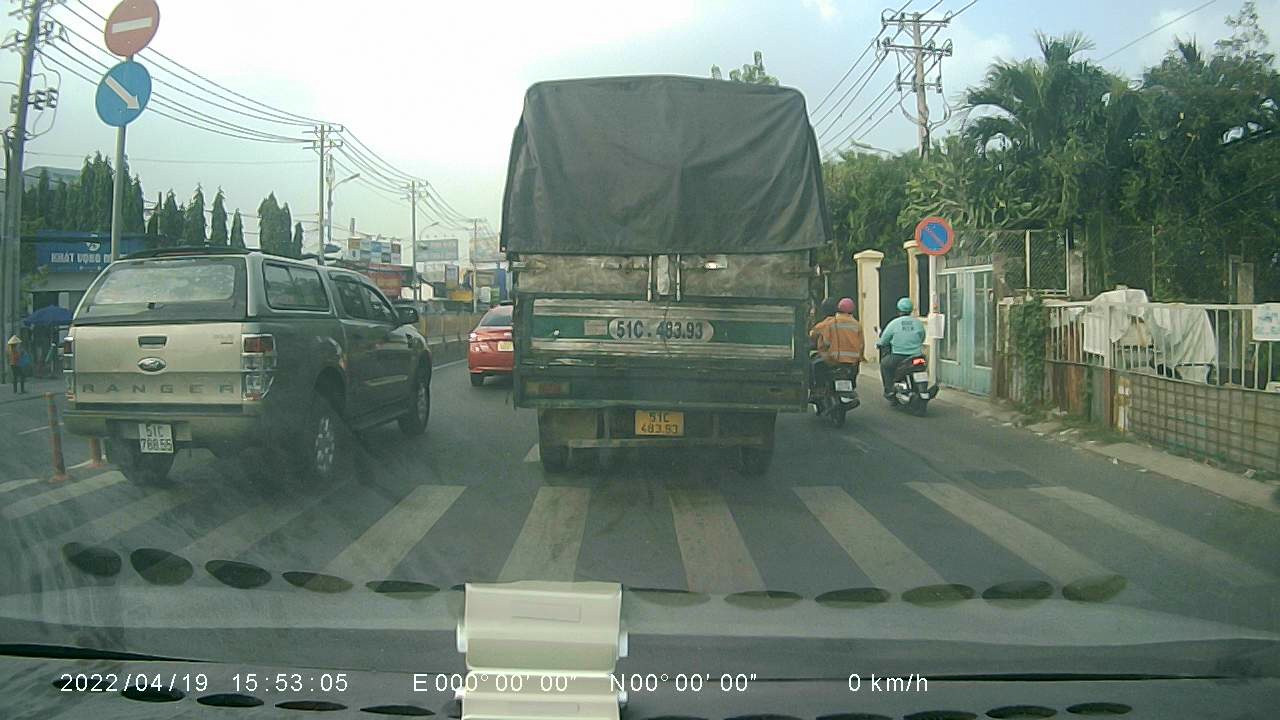Cam di nguoc chieu: (102, 1, 168, 55)
Cam do xe: (910, 212, 955, 258)
Huong di phai re phai: (92, 60, 150, 126)
